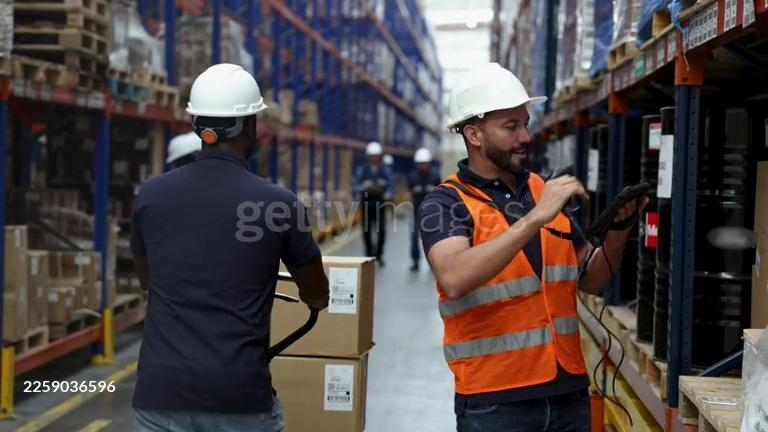helmet: (438, 62, 546, 137), (188, 61, 268, 118), (167, 133, 204, 165)
person: (409, 64, 650, 432), (128, 61, 332, 427), (349, 141, 396, 270), (402, 146, 443, 271)
